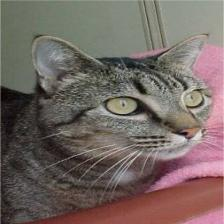cat: (24, 32, 218, 163)
